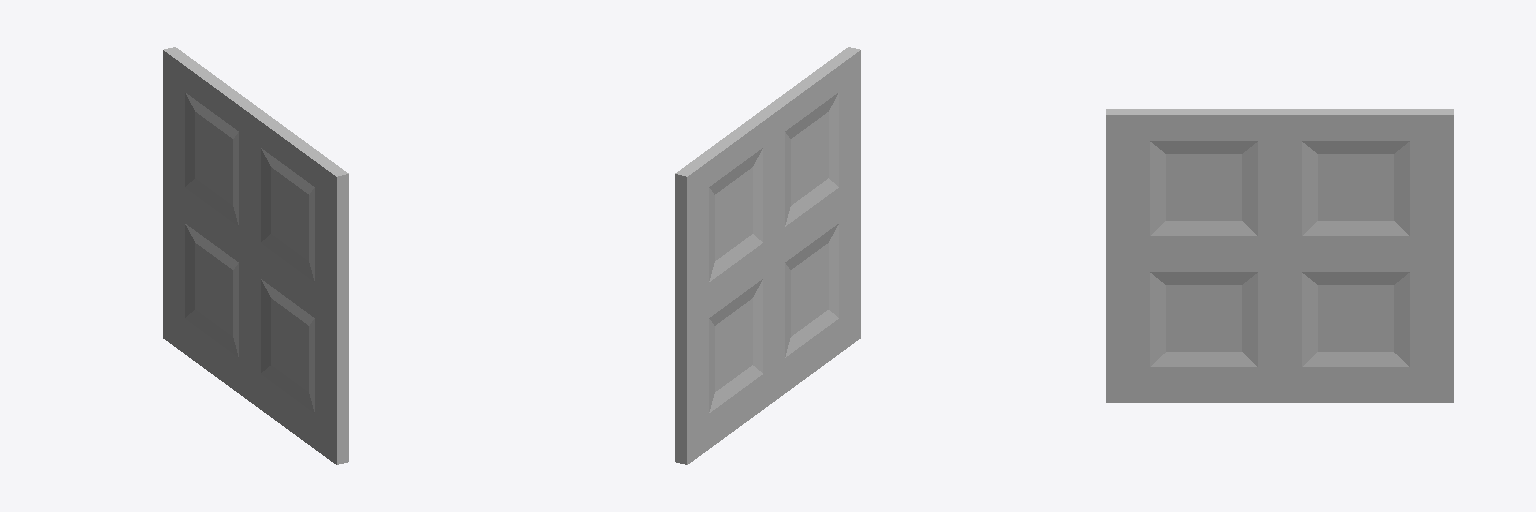
File: PuertaGrande.obj
3 views of the same model, side by side, from view 1: azimuth 30°, elevation 25°; view 2: azimuth 150°, elevation 25°; view 3: azimuth 270°, elevation 25° (orthographic).
Parts seen in each view (by area): view 1: Cube_Cube.003; view 2: Cube_Cube.003; view 3: Cube_Cube.003.
Part boxes in pixels (left/top/right/bottom): Cube_Cube.003: left=163, top=47, right=348, bottom=464; Cube_Cube.003: left=675, top=47, right=860, bottom=464; Cube_Cube.003: left=1106, top=109, right=1453, bottom=402.
Bounding box in the file's own units: 0.1 × 2.2 × 2.4.